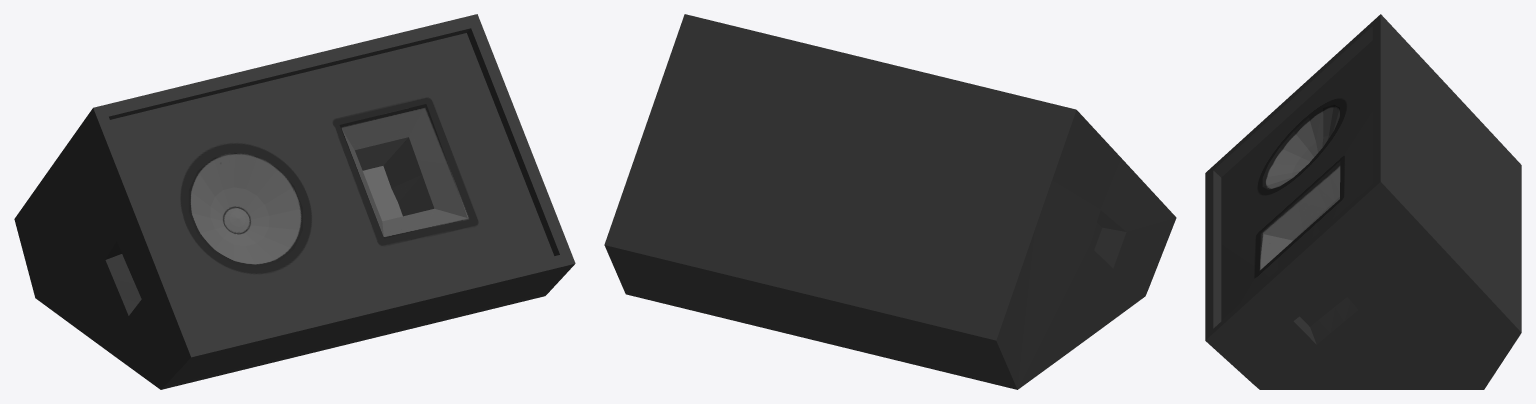
The model's file is small_speaker.obj.
3 renders of one model, left to right at view 1: azimuth 30°, elevation 25°; view 2: azimuth 150°, elevation 25°; view 3: azimuth 270°, elevation 25°, orthographic. The views are drawn at different scales.
Parts seen in each view (by area): view 1: speaker_small:Mesh_initialShadingGroup; view 2: speaker_small:Mesh_initialShadingGroup; view 3: speaker_small:Mesh_initialShadingGroup.
Part boxes in pixels (<box>): speaker_small:Mesh_initialShadingGroup: <box>14,14,575,389</box>; speaker_small:Mesh_initialShadingGroup: <box>604,14,1176,389</box>; speaker_small:Mesh_initialShadingGroup: <box>1205,14,1521,389</box>.
Size of the model in its own units: 21.6 by 12.48 by 17.18.
